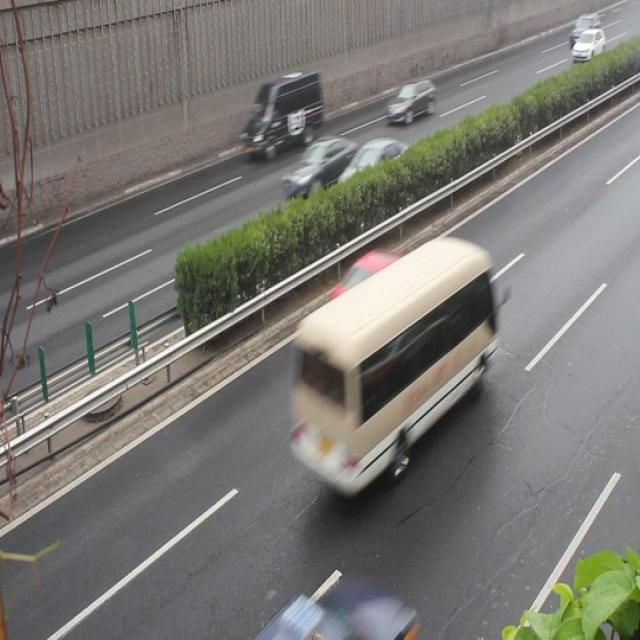car: (328, 250, 433, 332), (337, 138, 412, 203), (284, 135, 357, 197), (385, 80, 434, 127)
truck: (288, 238, 492, 496), (240, 68, 322, 158)
